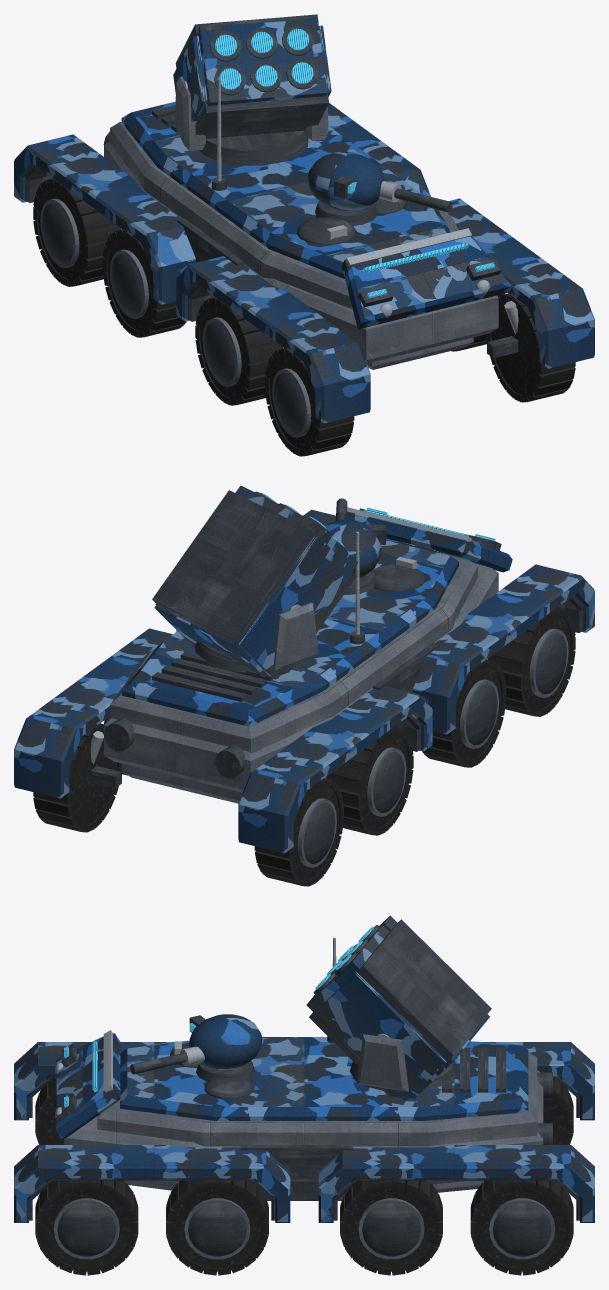
Rendered from kestrel-missile-carrier.glb.
The picture shows the model from 3 angles, top to bottom: view 1: azimuth 30°, elevation 25°; view 2: azimuth 150°, elevation 25°; view 3: azimuth 270°, elevation 25°; orthographic projection. The views are drawn at different scales.
Visible parts, largest first — view 1: hull_deck, rim_dish, rim, tyre, vision_band, hub; view 2: hull_deck, rim_dish, rim, tyre, hub; view 3: hull_deck, rim_dish, tyre, rim, hub, vision_band.
Part boxes in pixels (<box>): hull_deck: <box>14,18,594,423</box>; rim_dish: <box>25,14,518,433</box>; rim: <box>40,76,498,437</box>; tyre: <box>33,178,575,456</box>; vision_band: <box>215,28,495,298</box>; hub: <box>183,78,518,334</box>; hull_deck: <box>14,485,594,853</box>; rim_dish: <box>90,490,583,863</box>; rim: <box>104,540,568,867</box>; tyre: <box>33,608,575,886</box>; hub: <box>90,507,471,764</box>; hull_deck: <box>14,919,594,1222</box>; rim_dish: <box>29,915,579,1256</box>; tyre: <box>35,1078,573,1275</box>; rim: <box>53,1034,555,1259</box>; hub: <box>55,937,389,1117</box>; vision_band: <box>64,926,373,1107</box>.
Bounding box in the file's own units: 3.97 × 4.03 × 7.74.
6 materials, 6 textured.
